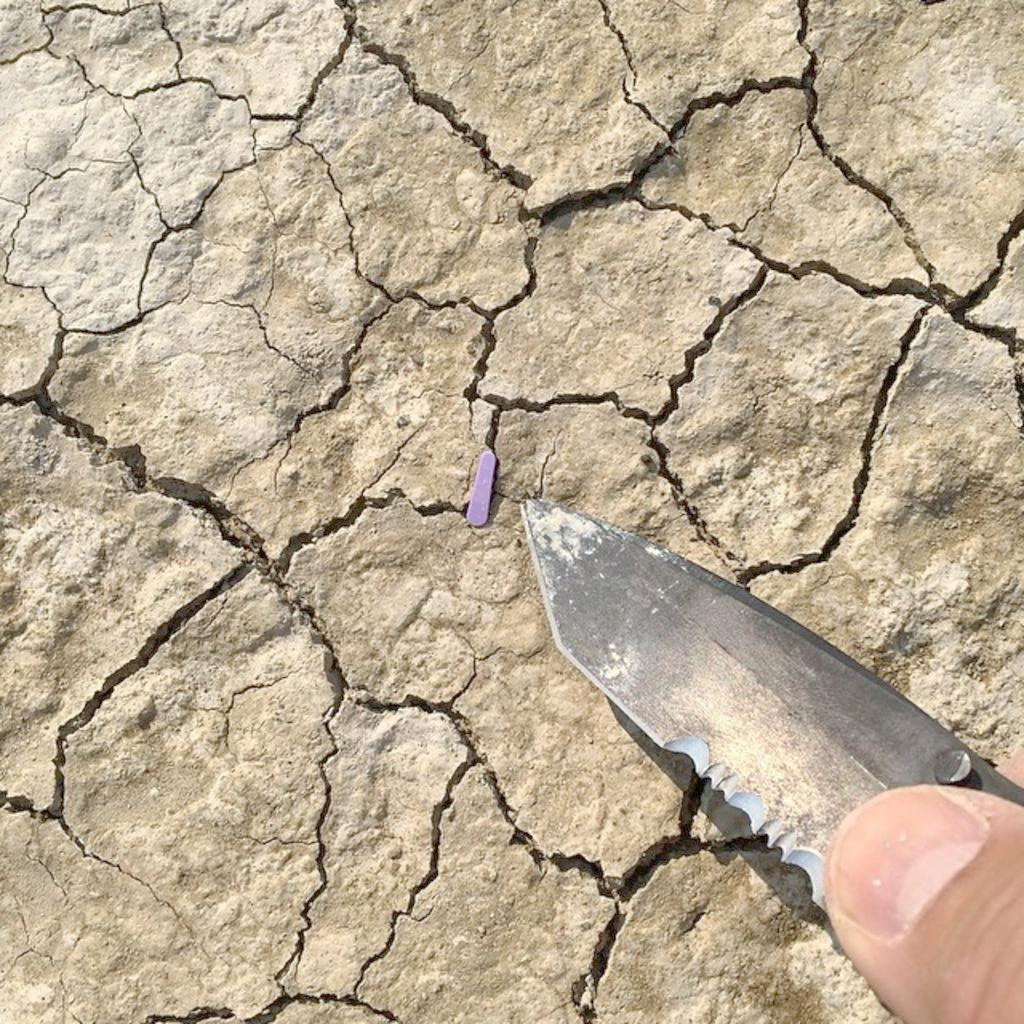melee: (524, 500, 1024, 946)
